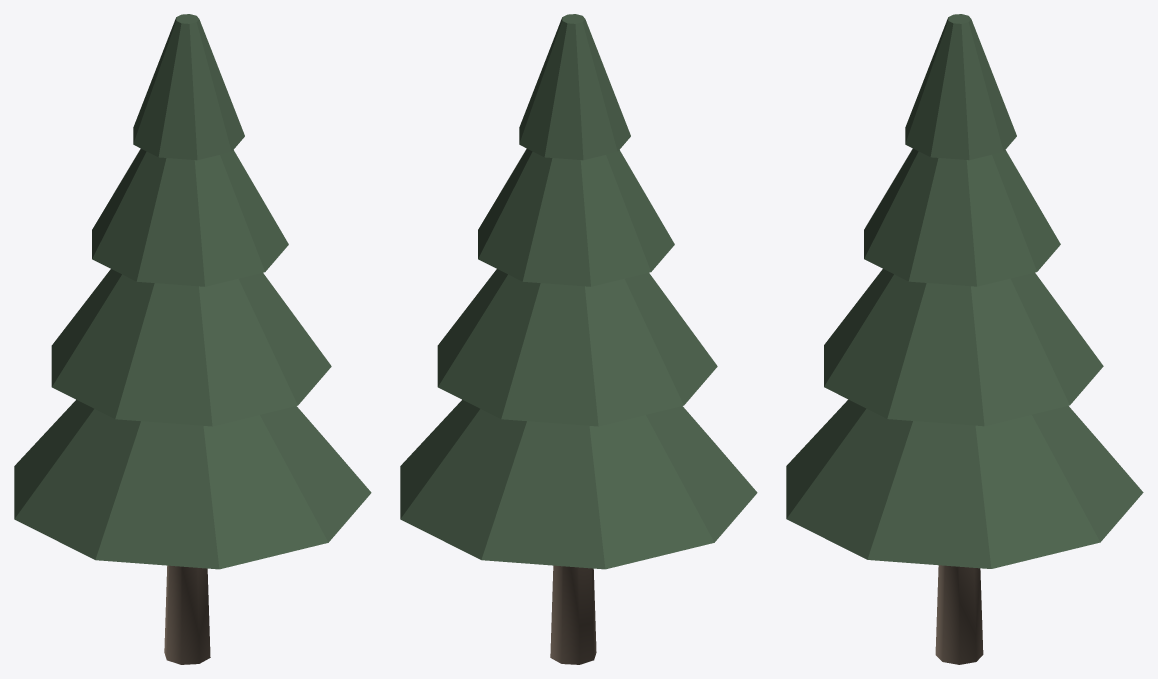
File: pine_tree_90s.glb
3 views of the same model, side by side, from view 1: azimuth 30°, elevation 25°; view 2: azimuth 150°, elevation 25°; view 3: azimuth 270°, elevation 25° (orthographic).
Visible parts, largest first — view 1: Tier_0, Tier_1, Tier_2, Tier_3, Trunk; view 2: Tier_0, Tier_1, Tier_2, Tier_3, Trunk; view 3: Tier_0, Tier_1, Tier_2, Tier_3, Trunk.
Boxes of the visible parts, <box> form: Tier_0: <box>14,399,371,569</box>; Tier_1: <box>51,269,331,426</box>; Tier_2: <box>92,149,288,286</box>; Tier_3: <box>133,14,244,160</box>; Trunk: <box>164,565,210,664</box>; Tier_0: <box>400,399,757,569</box>; Tier_1: <box>437,269,717,426</box>; Tier_2: <box>478,149,674,286</box>; Tier_3: <box>519,14,630,160</box>; Trunk: <box>550,565,596,664</box>; Tier_0: <box>786,399,1143,568</box>; Tier_1: <box>824,269,1103,426</box>; Tier_2: <box>864,148,1060,286</box>; Tier_3: <box>905,14,1016,160</box>; Trunk: <box>935,565,983,664</box>.
Bounding box in the file's own units: 3.64 × 7.05 × 3.59.
